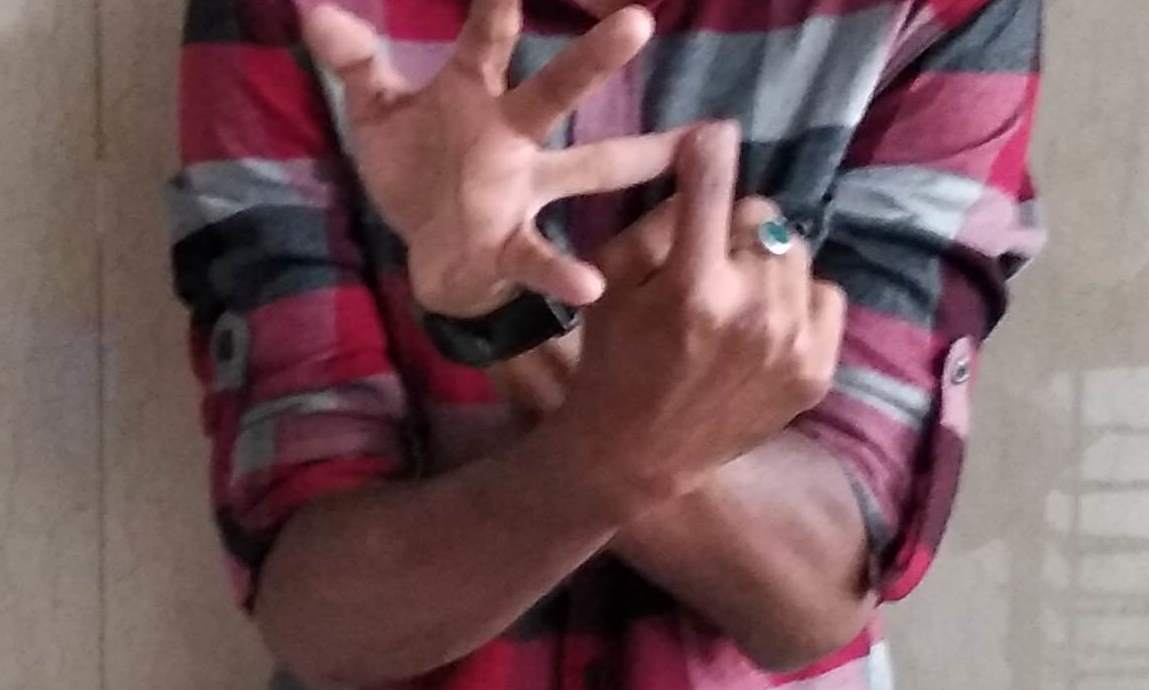e: (457, 23, 812, 374)
